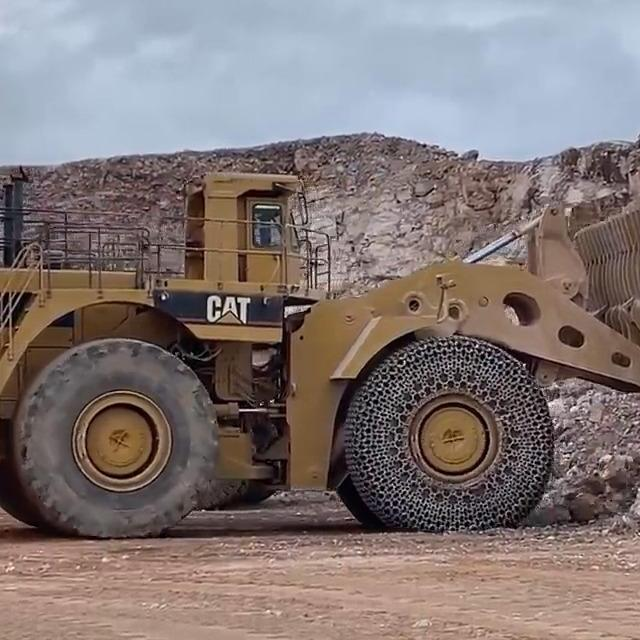Person: (252, 218, 262, 248)
wheel loader: (0, 152, 640, 544)
